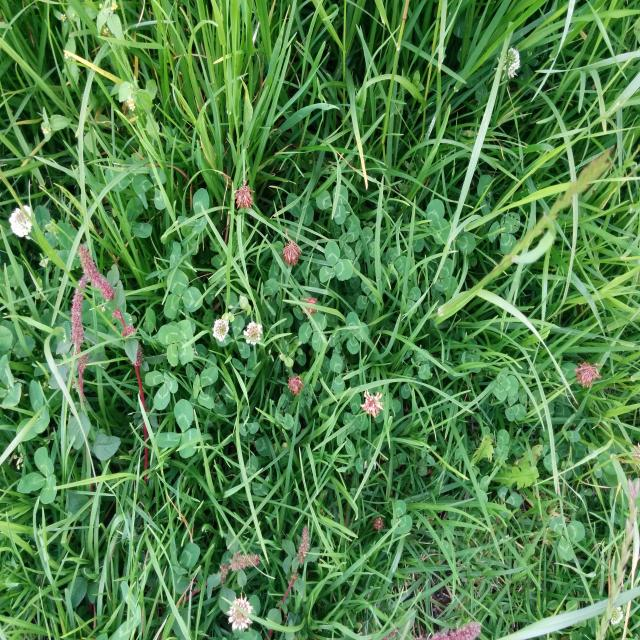Four Leaf Clover: (158, 320, 194, 367)
